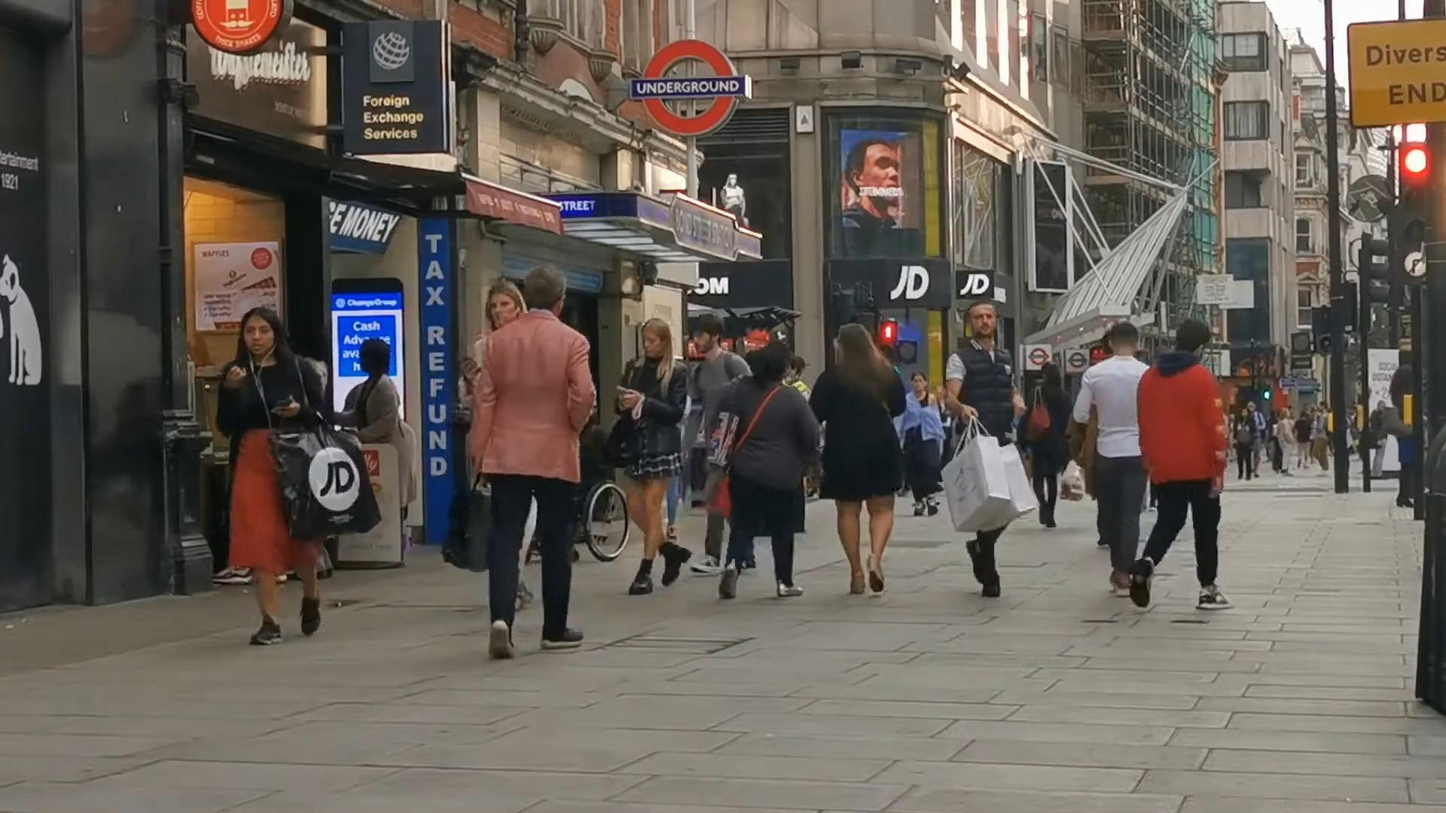no-helmet: (237, 306, 290, 358), (837, 323, 888, 373), (486, 276, 528, 332), (524, 265, 566, 318), (752, 340, 790, 395), (1175, 320, 1211, 360), (692, 313, 723, 355), (642, 317, 672, 357), (967, 301, 996, 339), (1109, 323, 1139, 355), (1041, 364, 1062, 392), (911, 372, 927, 392)
